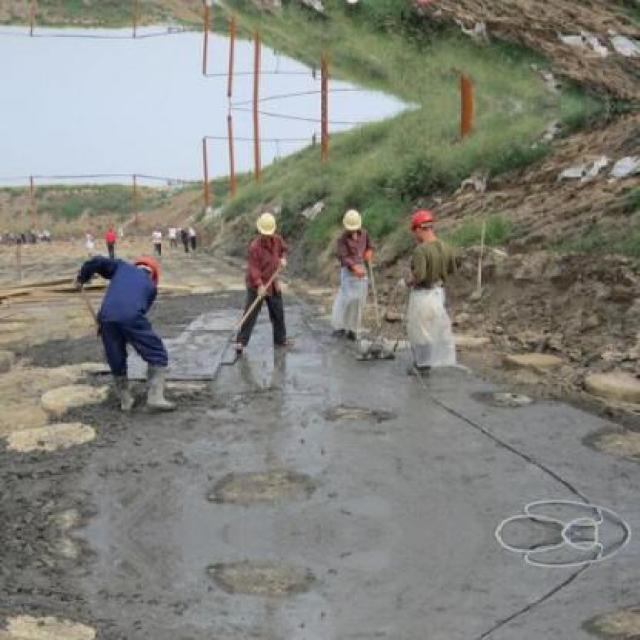helmet: (127, 252, 162, 286), (406, 207, 437, 239), (254, 208, 278, 241), (341, 206, 364, 234), (340, 0, 365, 8), (406, 0, 439, 6)
